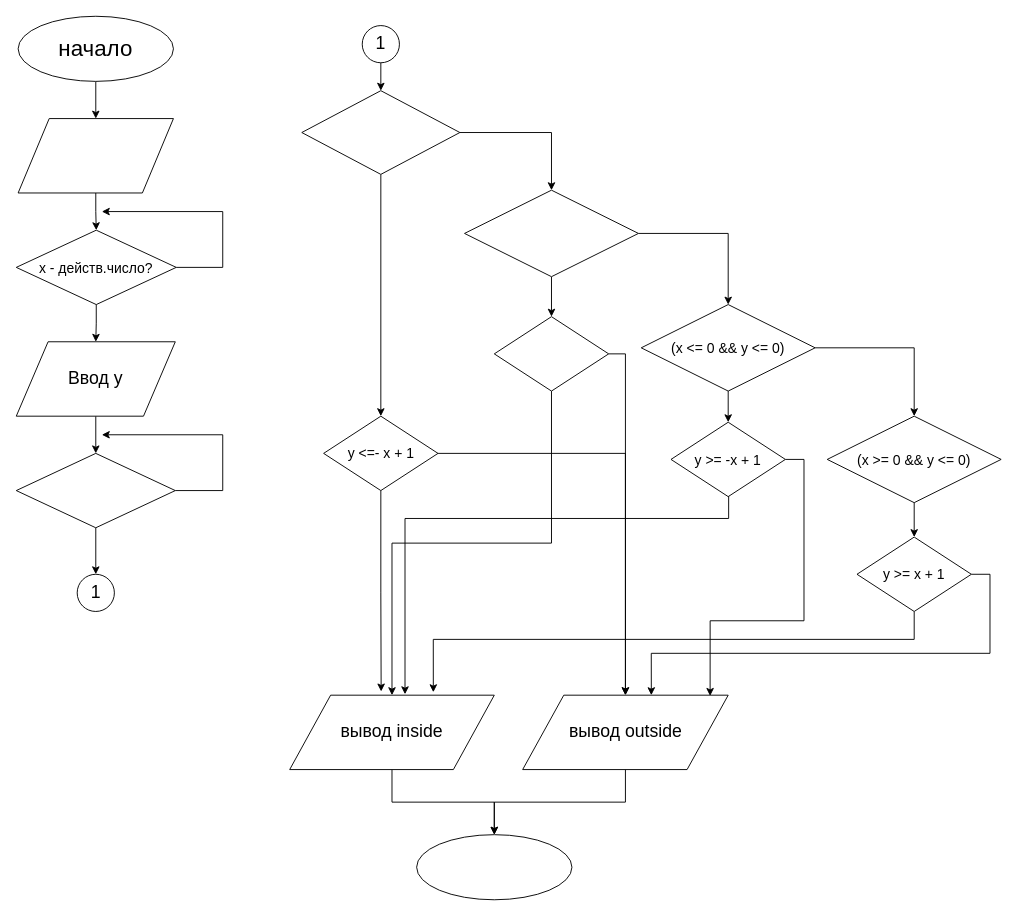
Image size: 1017x916. Some labels were removed from this diagram. The shapes that lost their labels are listed below. From the top down, each one's box as (x1, y1, x2, y2) in pixels, then its label:
(301, 90, 460, 174): (x >= 0 && y >= 0)
(17, 118, 173, 193): Ввод х
(464, 189, 638, 277): (x <= 0 && y >= 0)
(493, 316, 609, 391): y <= x + 1
(15, 452, 175, 528): у - действ.число?
(416, 834, 572, 900): конец
